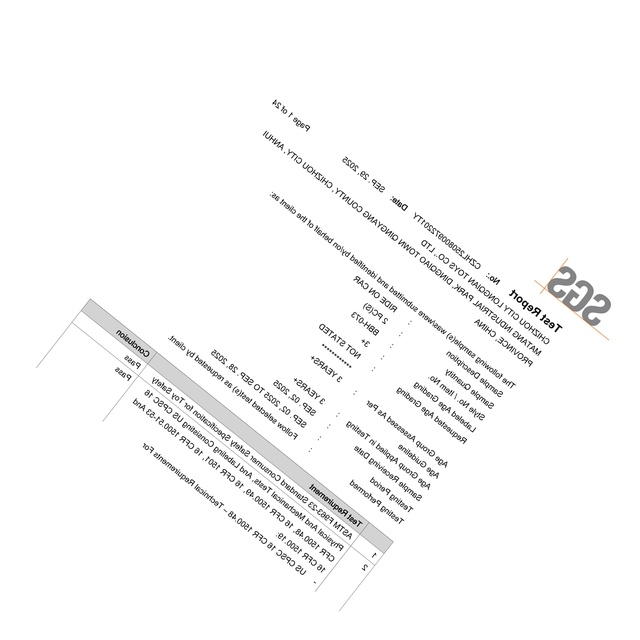sgs: (547, 264, 612, 327)
